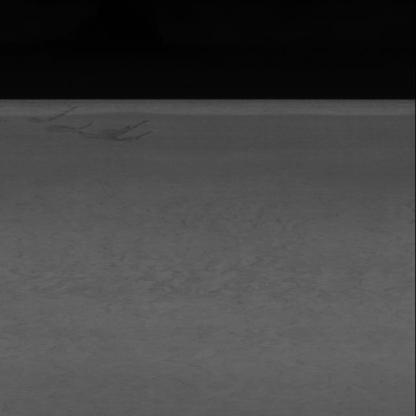silk_spot: (13, 197, 368, 357)
water_spot: (30, 112, 158, 149)
